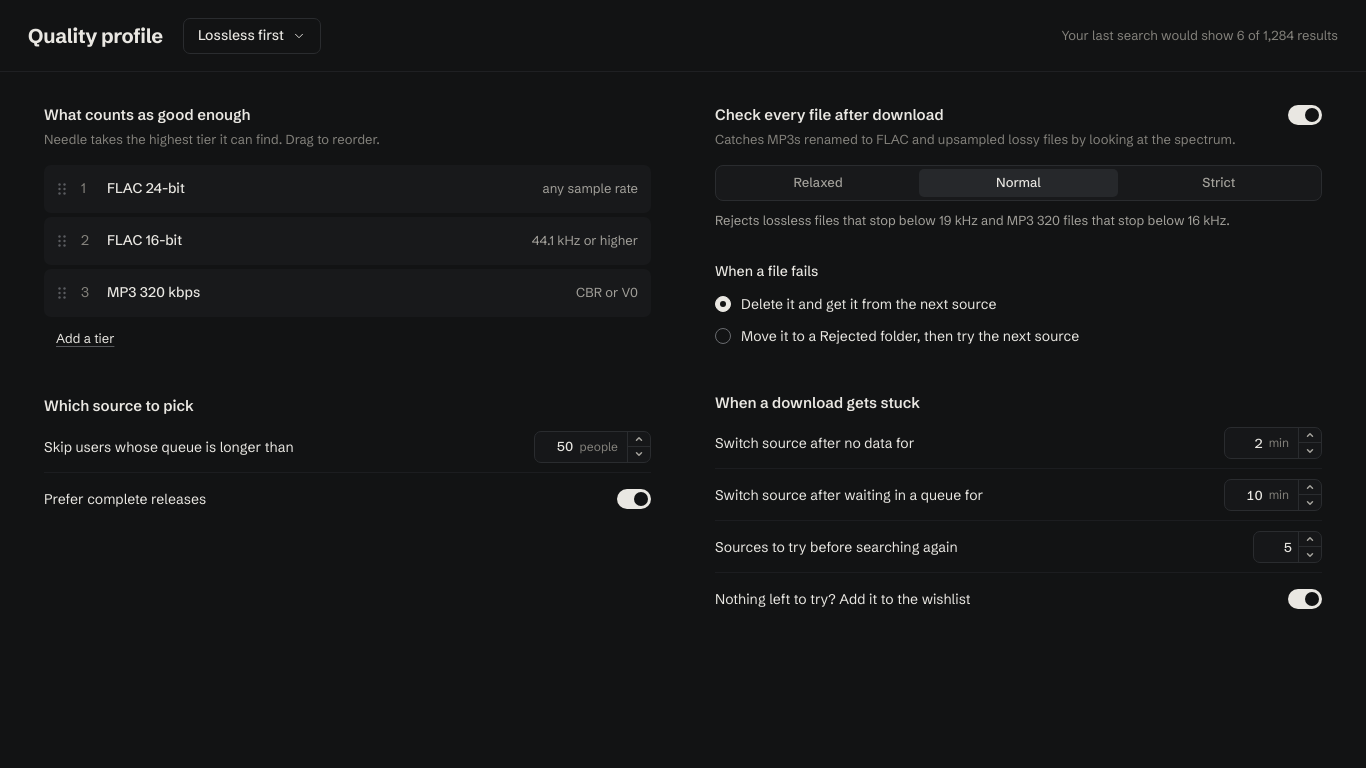
Test case: Quality profile › shows a save error inline
The width and height of the screenshot is (1366, 768).
Click the button named "Raise queue limit" at (639, 439), box [628, 432, 650, 446]
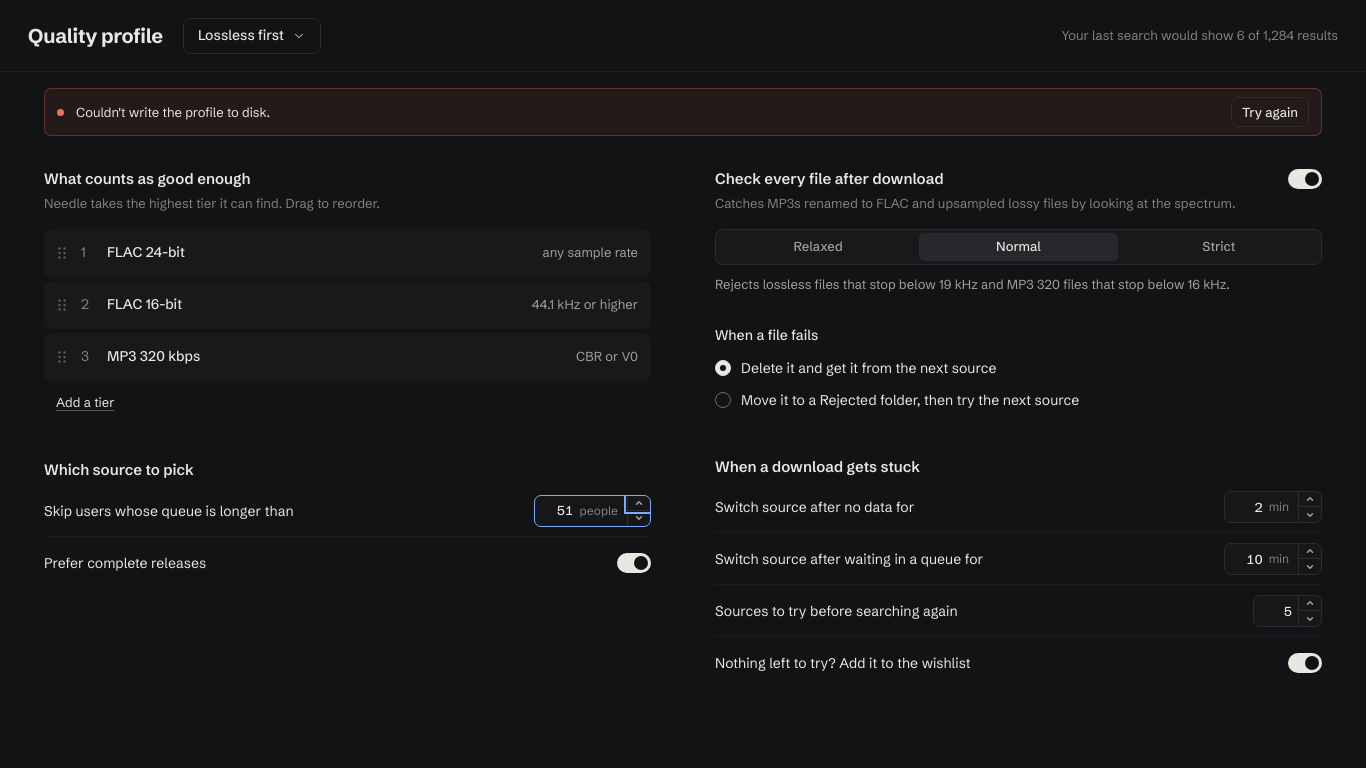
Expected: the message shows "Couldn't write the profile to disk.", [76, 104, 270, 120]
